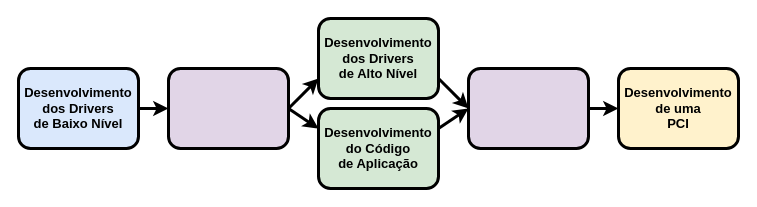
Some shapes in this 757 by 207 pixel diagram are drawn without their labels. The centre of each missing label's shape, as x and y in pixels:
Desenvolvimento de Hardware: the point at 228,108
Teste e Validação: the point at 528,108
